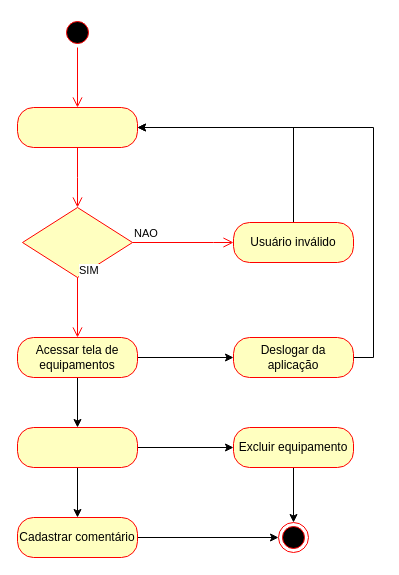
This 399x575 diagram has some shape labels left out. The shapes that lost their labels are listed below. From the top down, each one's centre as x and y in pixels, then its label:
(x=77, y=127): Efetuat Login
(x=77, y=242): Usuario é válido?
(x=77, y=447): Cadastrar equipamento
